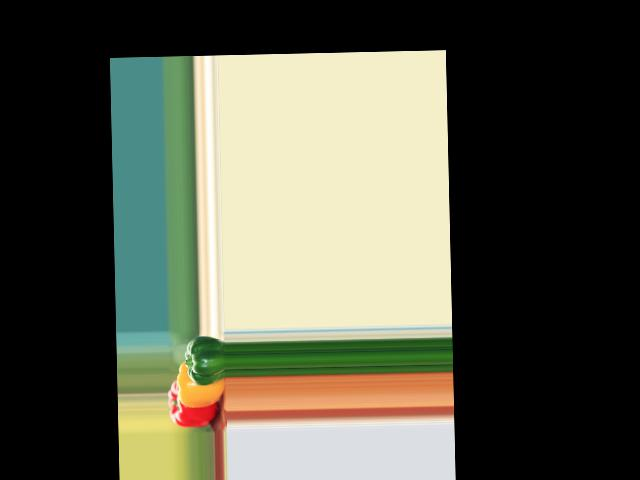bell_pepper: (168, 379, 224, 427)
